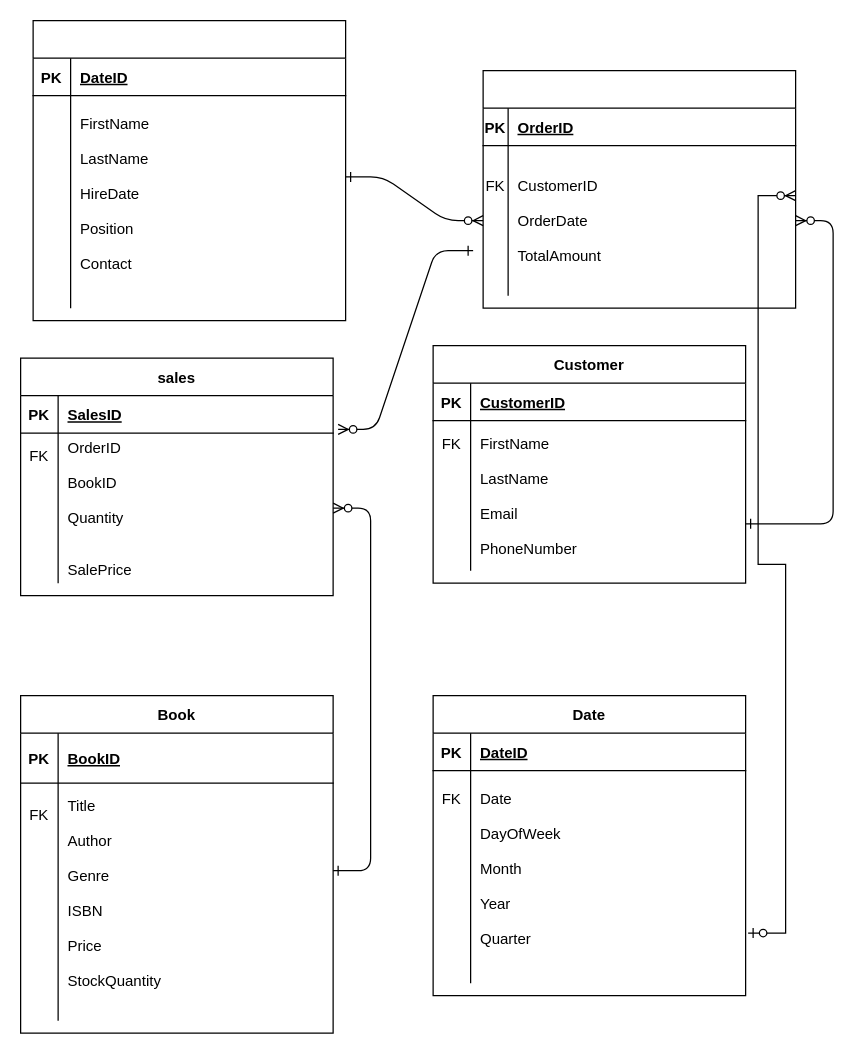
Some shapes in this 854 by 1054 pixel diagram are drawn without their labels. Each missing label, with the box of its shape:
Employee: (32, 19, 346, 321)
Orders: (482, 69, 796, 308)
